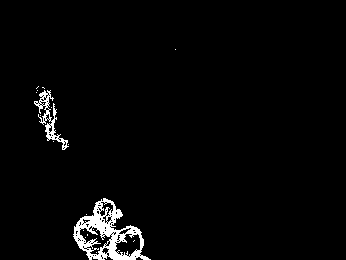person: (75, 193, 122, 260), (34, 87, 70, 154)
